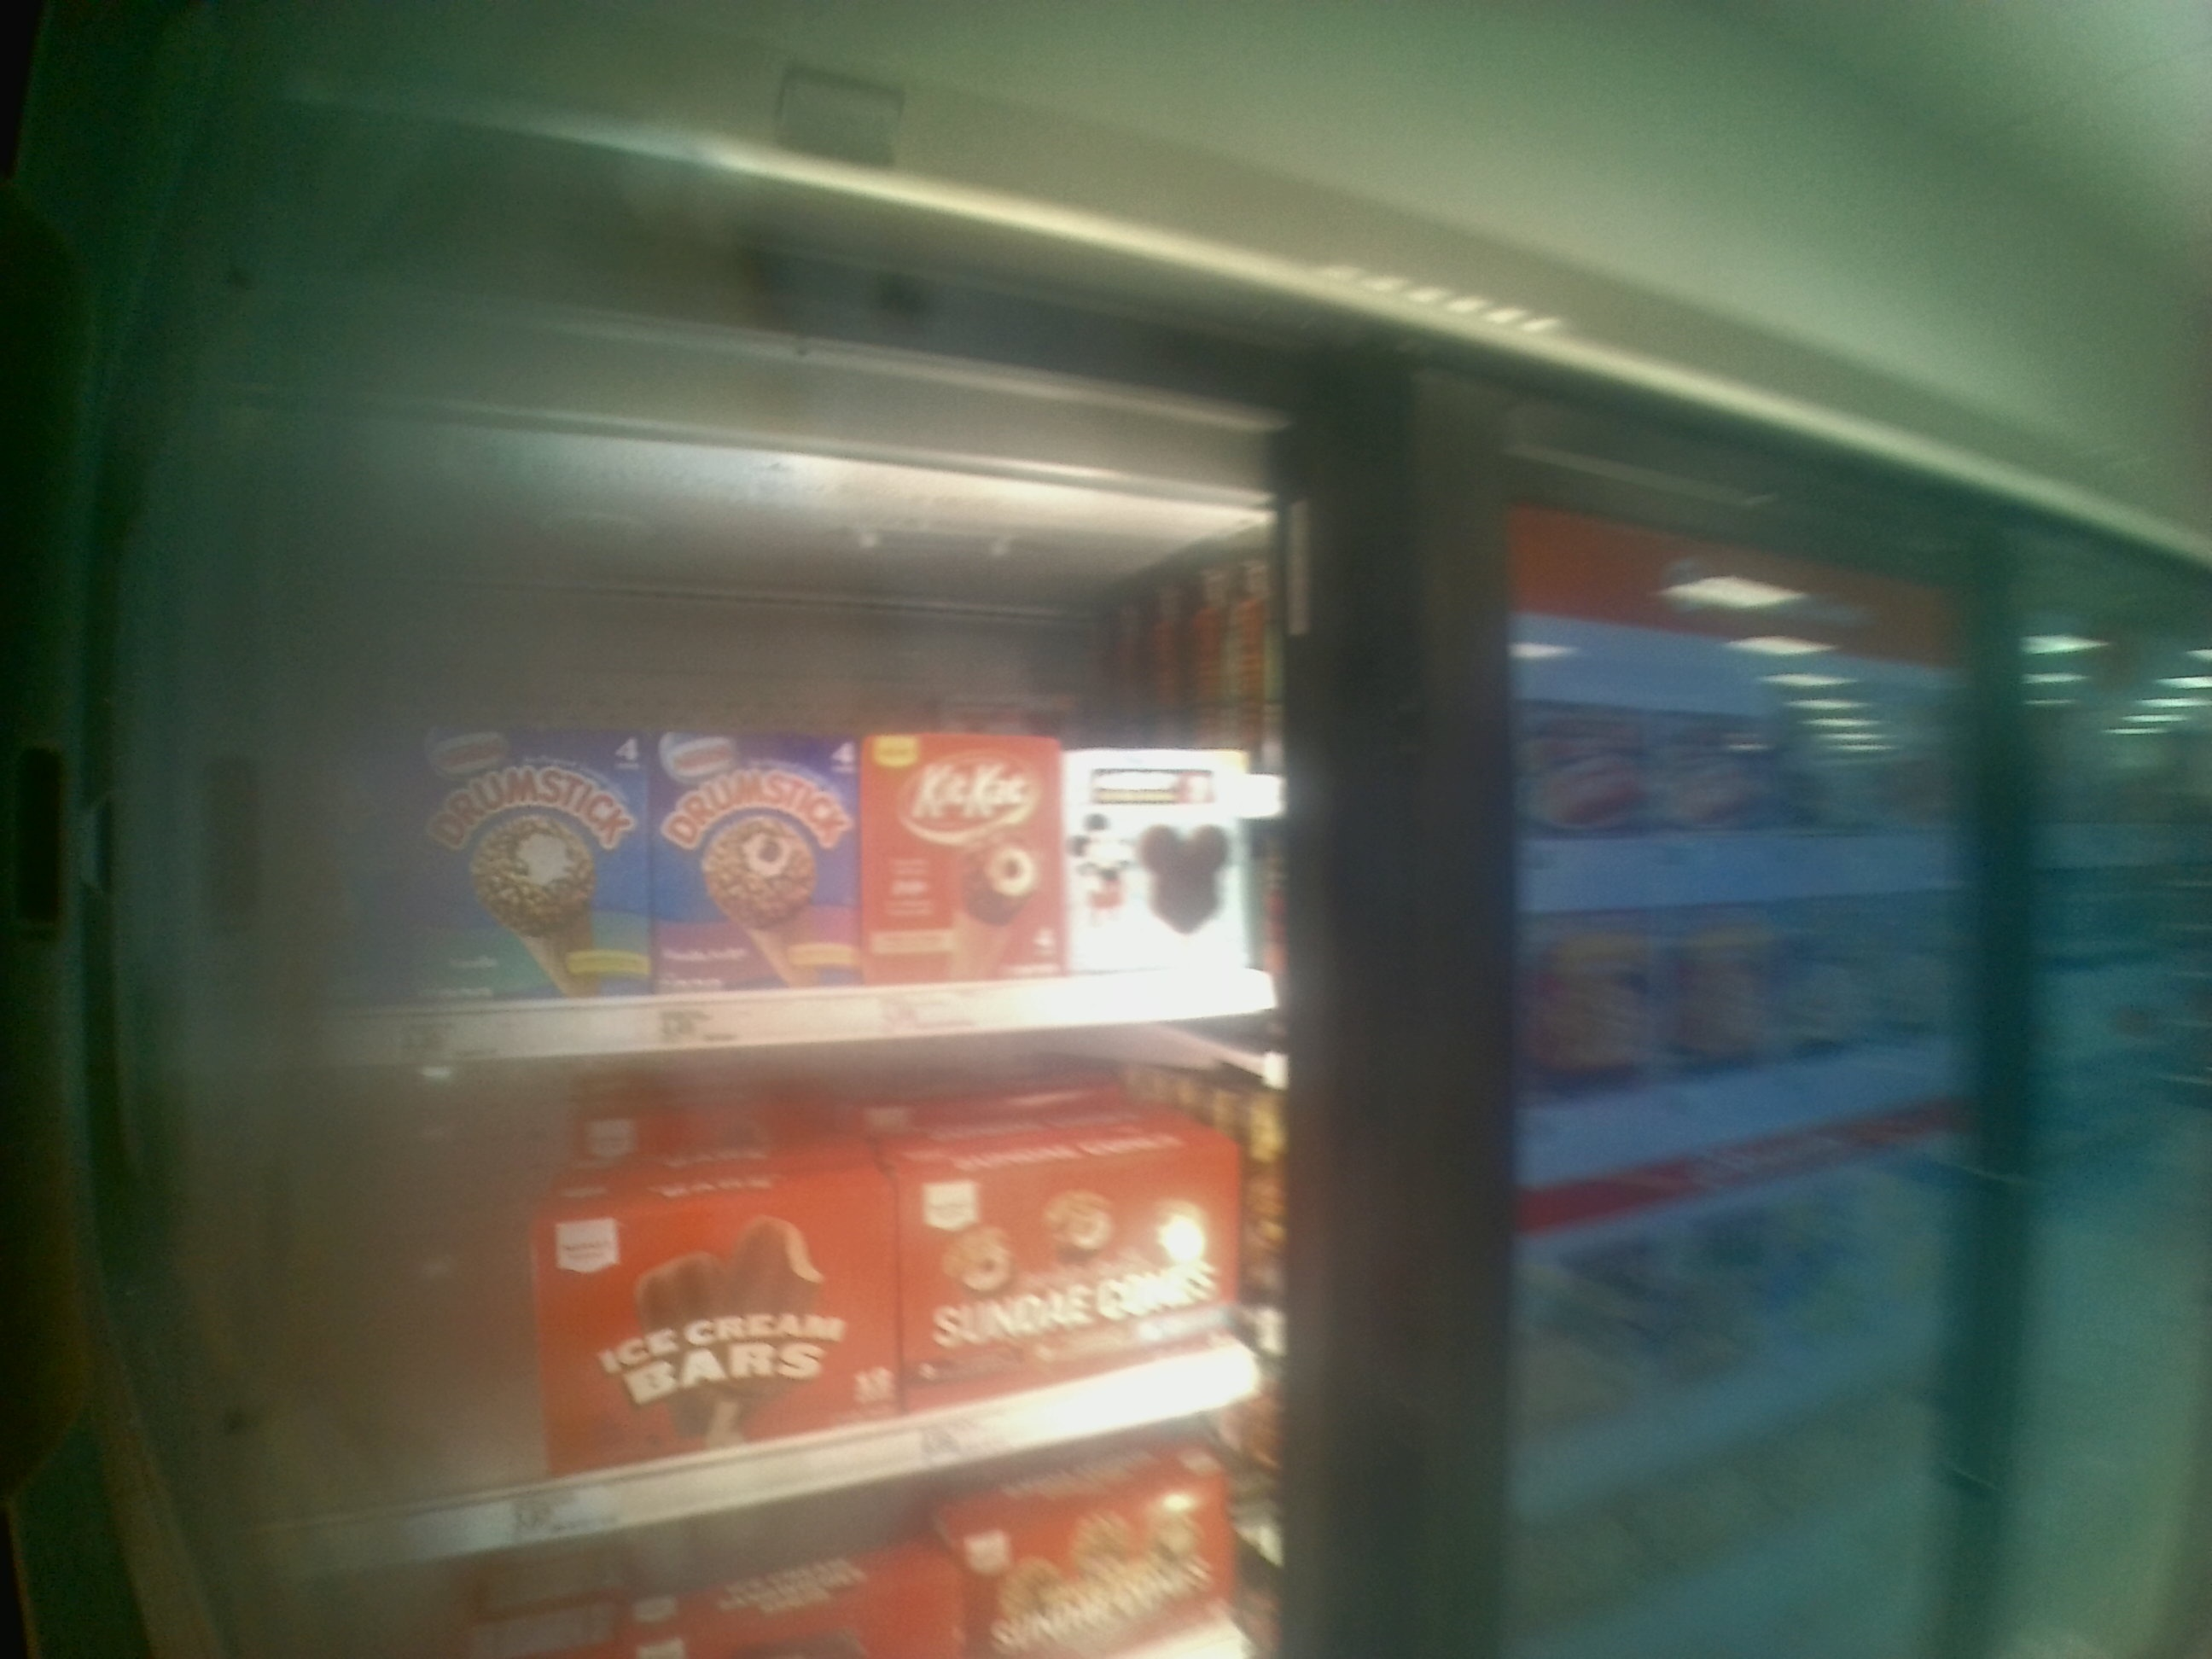shelf: (246, 1004, 1294, 1582), (246, 601, 1305, 1053)
